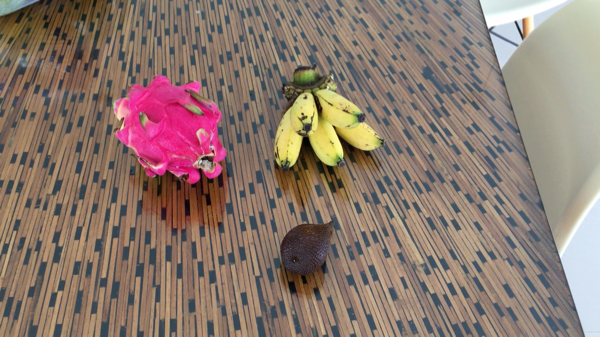banana: (268, 63, 383, 173)
dragon fruit: (117, 79, 229, 185)
snake fruit: (283, 219, 339, 272)
